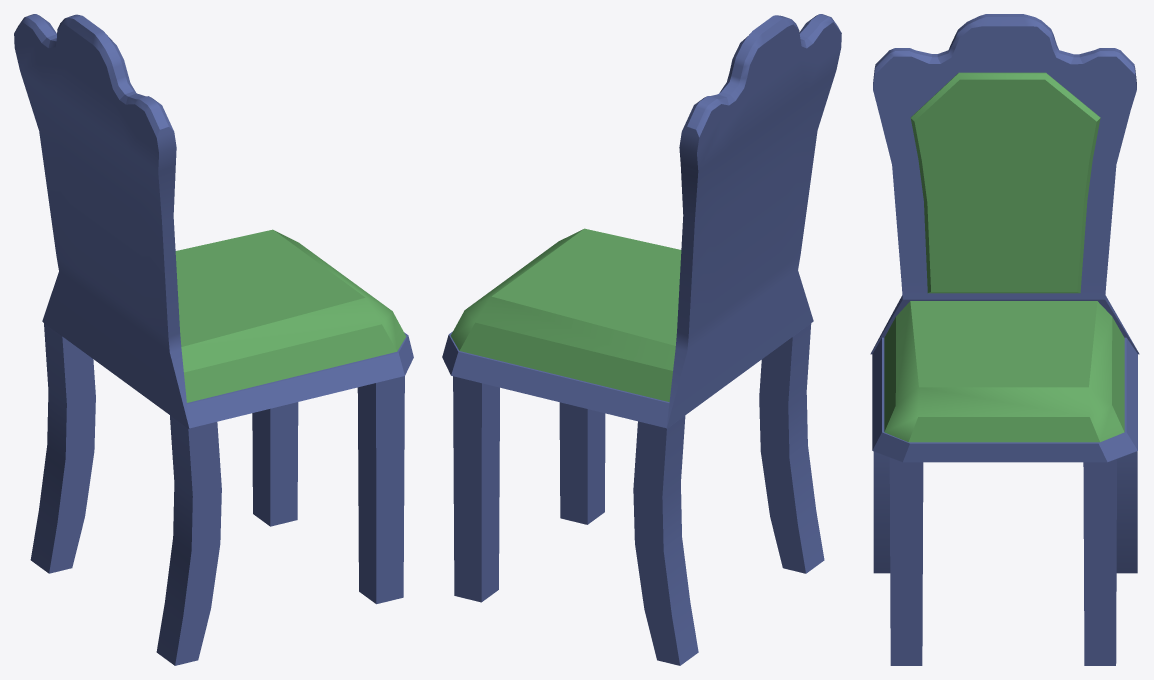
File: Chair.fbx
3 views of the same model, side by side, from view 1: azimuth 30°, elevation 25°; view 2: azimuth 150°, elevation 25°; view 3: azimuth 270°, elevation 25° (orthographic). The views are drawn at different scales.
Visible parts, largest first — view 1: pasted__pCube6, pasted__pCube8, pasted__pasted__pCube10, pasted__pCube10, pasted__pasted__pCube11, pasted__pCube9, pasted__pCube11; view 2: pasted__pCube6, pasted__pCube8, pasted__pCube10, pasted__pasted__pCube10, pasted__pCube11, pasted__pCube9, pasted__pasted__pCube11; view 3: pasted__pCube12, pasted__pCube8, pasted__pCube6, pasted__pCube9, pasted__pasted__pCube11, pasted__pCube11, pasted__pCube10, pasted__pasted__pCube10.
Part boxes in pixels (<box>): pasted__pCube6: <box>14,14,189,429</box>; pasted__pCube8: <box>175,229,406,402</box>; pasted__pasted__pCube10: <box>156,415,221,665</box>; pasted__pCube10: <box>30,323,95,573</box>; pasted__pasted__pCube11: <box>357,376,404,604</box>; pasted__pCube9: <box>143,332,413,428</box>; pasted__pCube11: <box>252,402,298,526</box>; pasted__pCube6: <box>666,14,841,428</box>; pasted__pCube8: <box>450,228,681,401</box>; pasted__pCube10: <box>633,416,698,665</box>; pasted__pasted__pCube10: <box>759,323,824,573</box>; pasted__pCube11: <box>453,376,499,602</box>; pasted__pCube9: <box>442,331,743,428</box>; pasted__pasted__pCube11: <box>559,402,605,524</box>; pasted__pCube12: <box>910,72,1100,293</box>; pasted__pCube8: <box>884,301,1124,442</box>; pasted__pCube6: <box>870,14,1139,354</box>; pasted__pCube9: <box>872,337,1137,462</box>; pasted__pasted__pCube11: <box>889,457,923,665</box>; pasted__pCube11: <box>1083,459,1116,665</box>; pasted__pCube10: <box>1116,451,1137,573</box>; pasted__pasted__pCube10: <box>873,451,890,573</box>.
Size of the model in its own units: 2.38 by 4.86 by 2.19.
